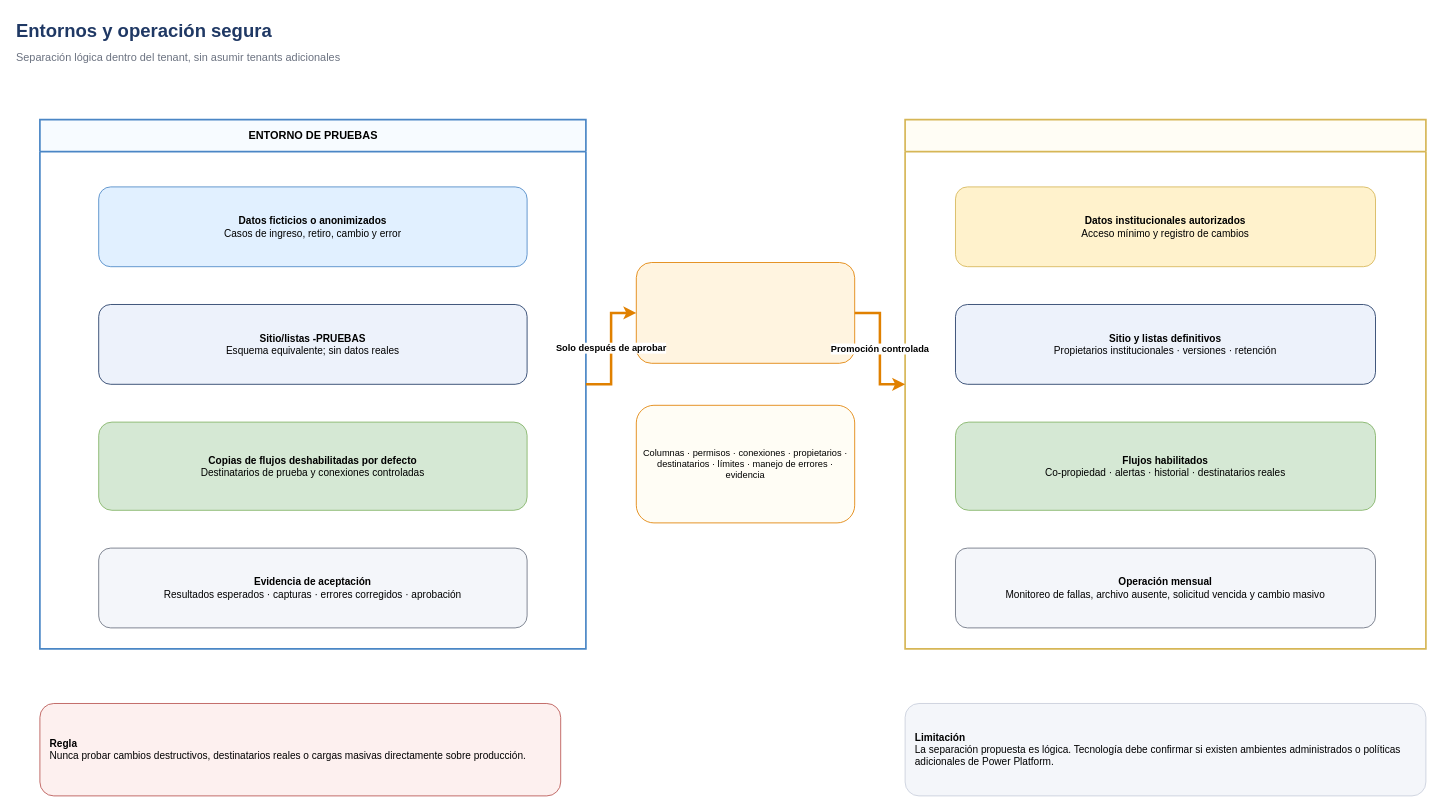
Image size: 1441x811. Some labels were removed from this diagram. Each missing label, with the box of its shape:
ENTORNO DE PRODUCCIÓN: (904, 118, 1426, 649)
LISTA DE VERIFICACIÓN DE PROMOCIÓN: (635, 262, 855, 363)
